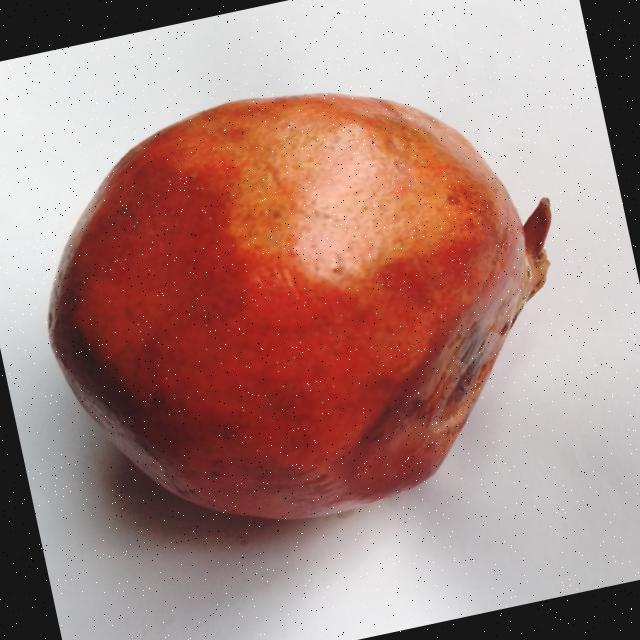Rotten: (0, 35, 613, 570)
